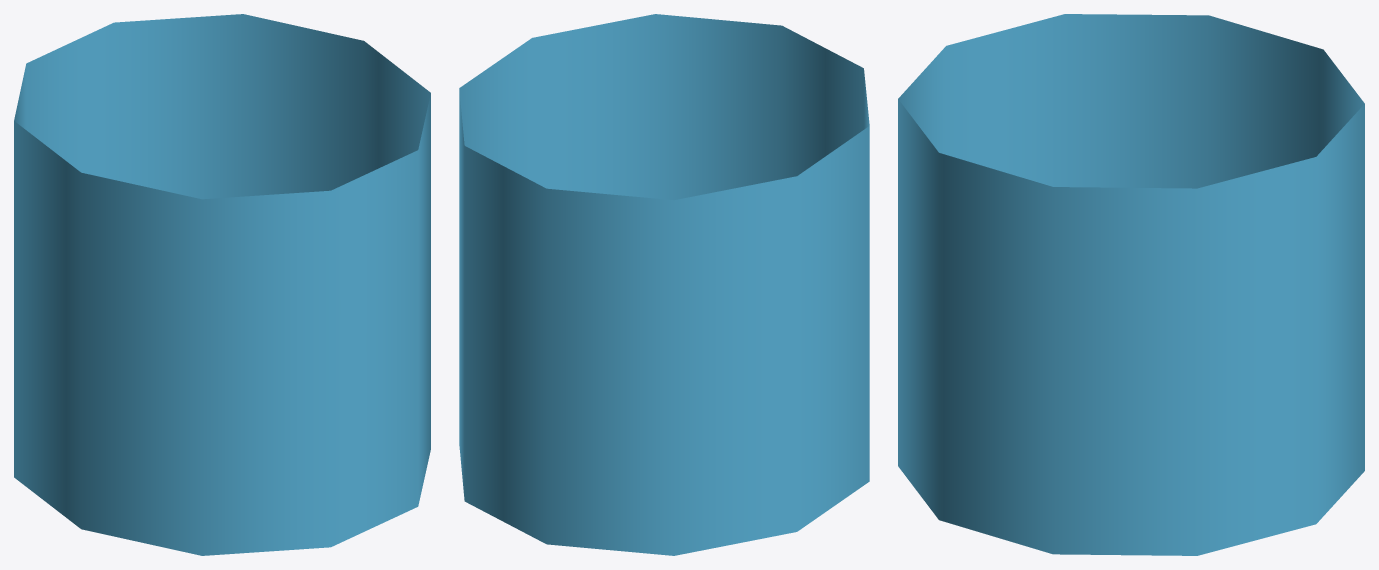
The model's file is shrinev4.fbx.
3 views of the same model, side by side, from view 1: azimuth 30°, elevation 25°; view 2: azimuth 150°, elevation 25°; view 3: azimuth 270°, elevation 25° (orthographic). The views are drawn at different scales.
Parts seen in each view (by area): view 1: Sky; view 2: Sky; view 3: Sky.
Boxes of the visible parts, left/top/right/bottom form: Sky: left=14, top=14, right=430, bottom=555; Sky: left=459, top=14, right=869, bottom=555; Sky: left=898, top=14, right=1364, bottom=555.
Bounding box in the file's own units: 6531 × 6455 × 7380.
